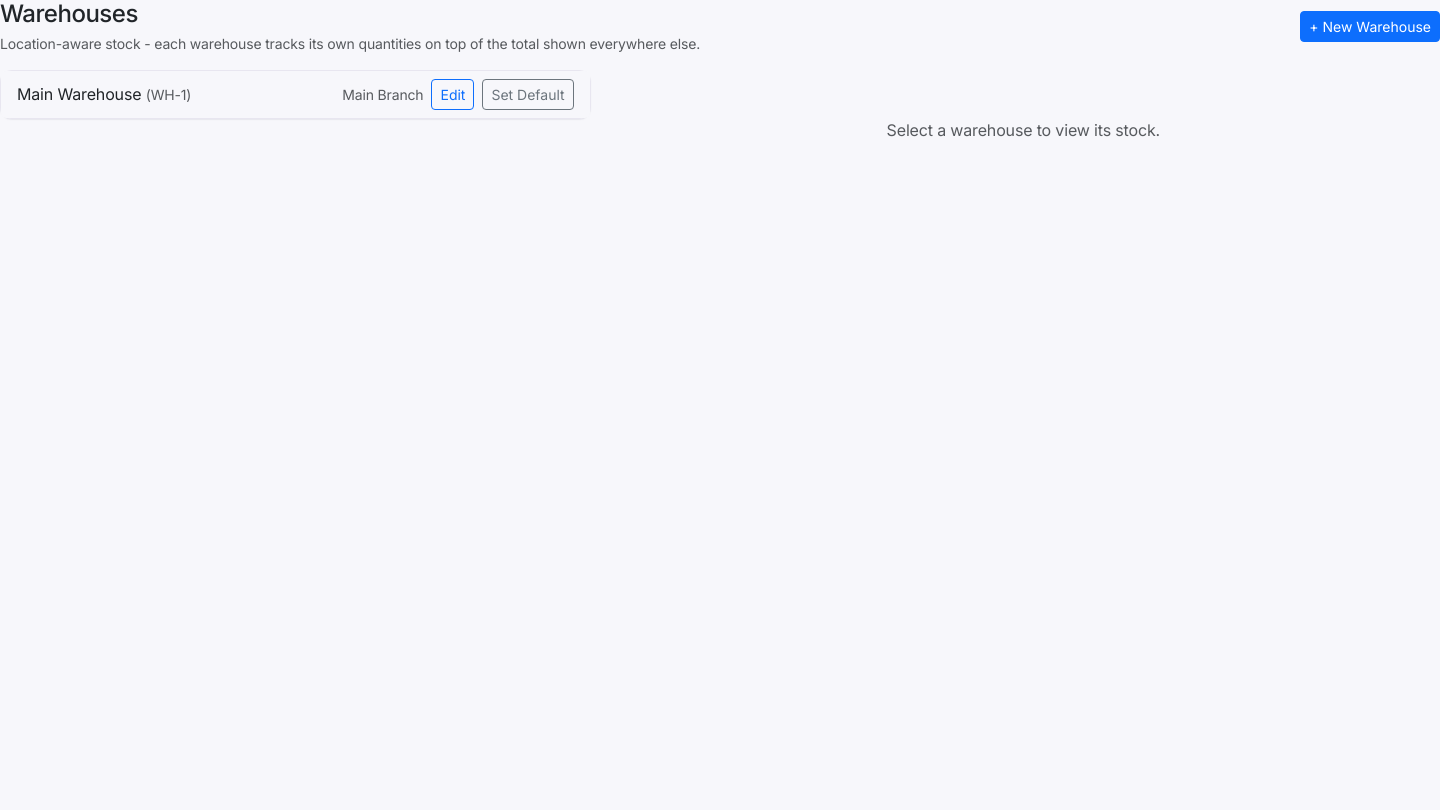
Test: Warehouses page › opens the Edit modal pre-filled for an existing warehouse
Expected: the button "Main Warehouse (WH-1)" is shown, [17,82,191,106]
What coordinates should you click on to do the following:
click the button "Edit"
I would click on:
 (453, 94)
Its box is [432,79,474,110].
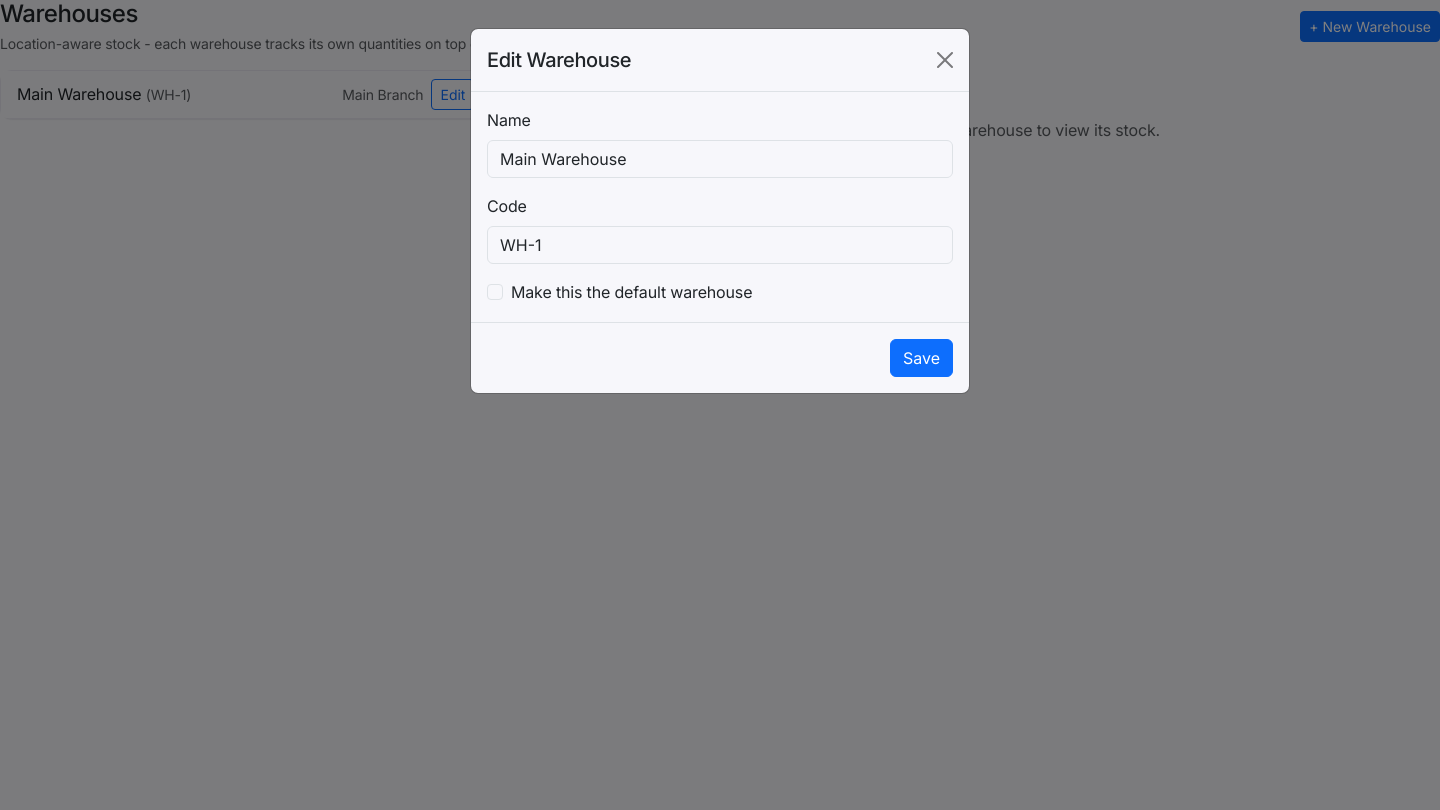
Now the heading "Edit Warehouse" is shown, box [487,45,631,75]
Now the field showing "Main Warehouse" below "Name" is shown, box [487,140,953,178]
